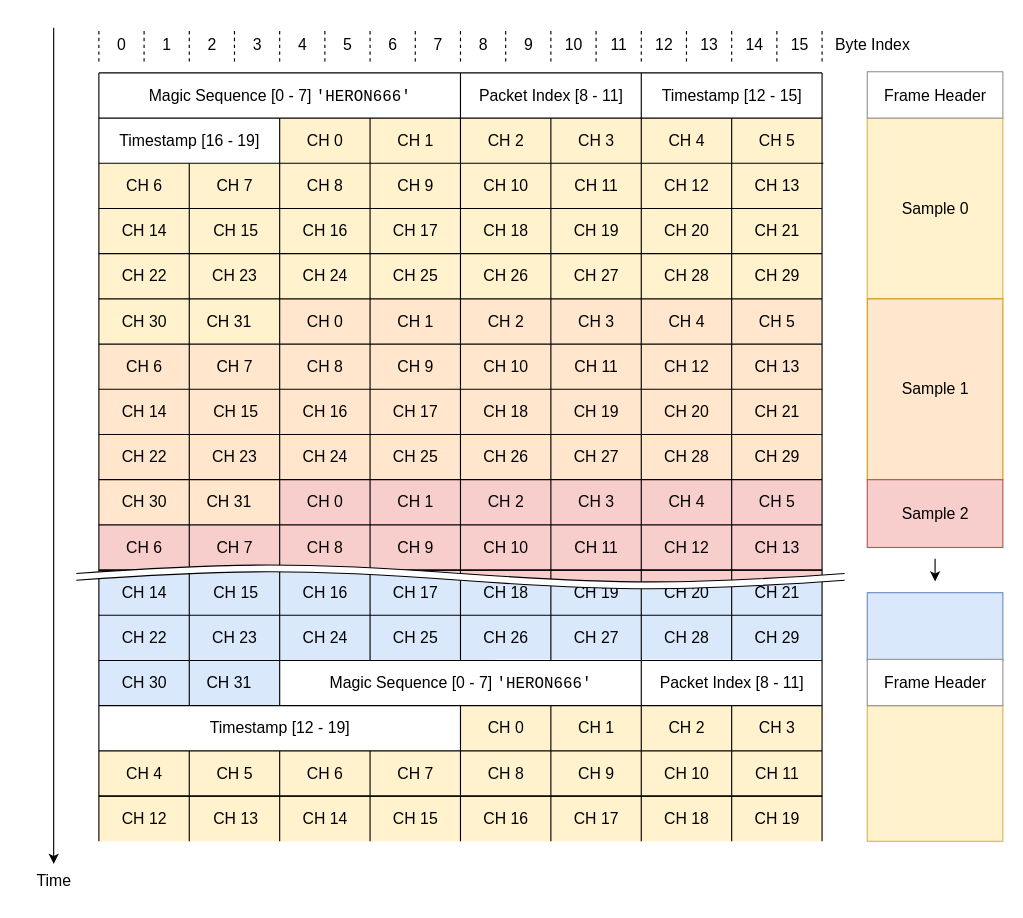
This 1023x918 diagram has some shape labels left out. The shapes that lost their labels are listed below. From the top down, each one's centre as x and y in pixels, then its label:
At [934,626]: "Sample 127".
At [934,773]: "Sample 128".
